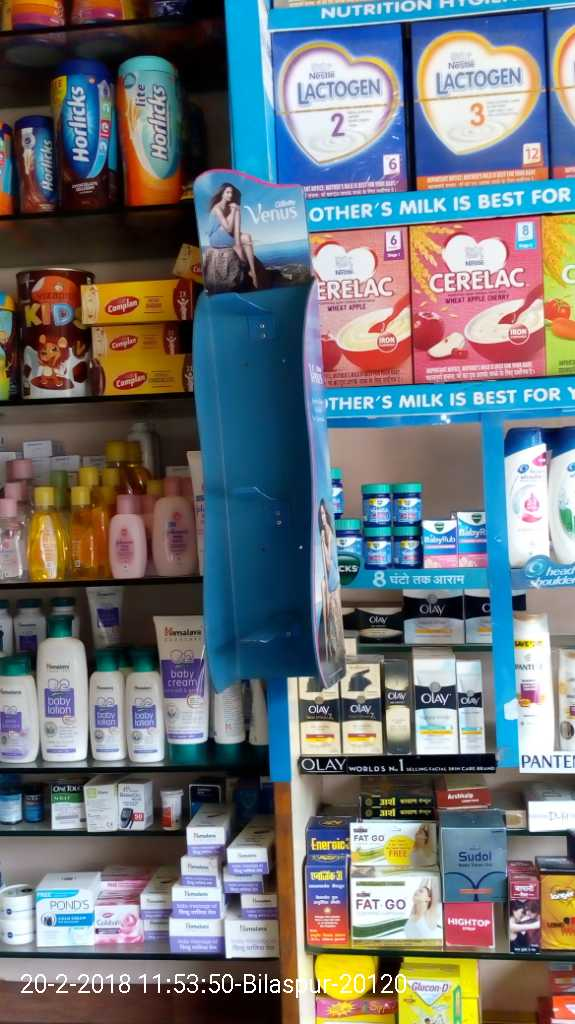beauty: (501, 424, 549, 564), (509, 607, 550, 750), (337, 658, 380, 755), (416, 656, 455, 753), (404, 586, 465, 646), (380, 657, 404, 738), (459, 656, 477, 752), (363, 605, 400, 643)
pharmacy: (421, 517, 457, 568), (453, 510, 485, 564), (354, 482, 390, 526), (391, 478, 423, 523), (362, 527, 390, 565), (392, 526, 416, 566)
